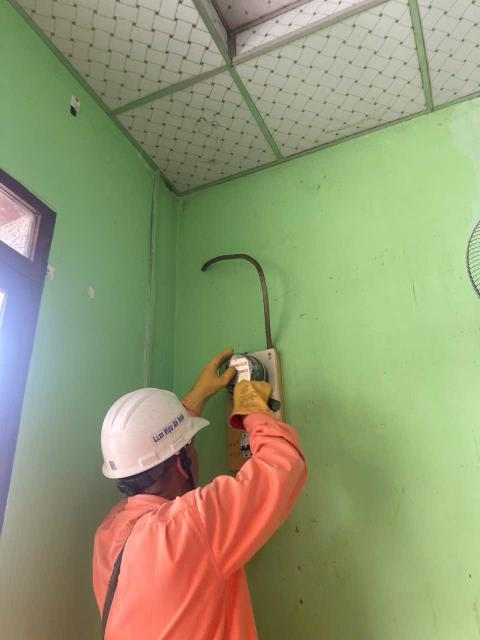gloves: (161, 347, 234, 420), (227, 372, 284, 428)
helmet: (88, 384, 215, 481)
